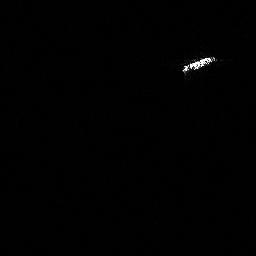ship: (179, 53, 217, 76)
